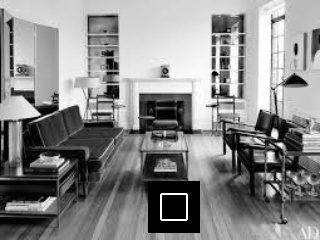square: (148, 181, 200, 233)
